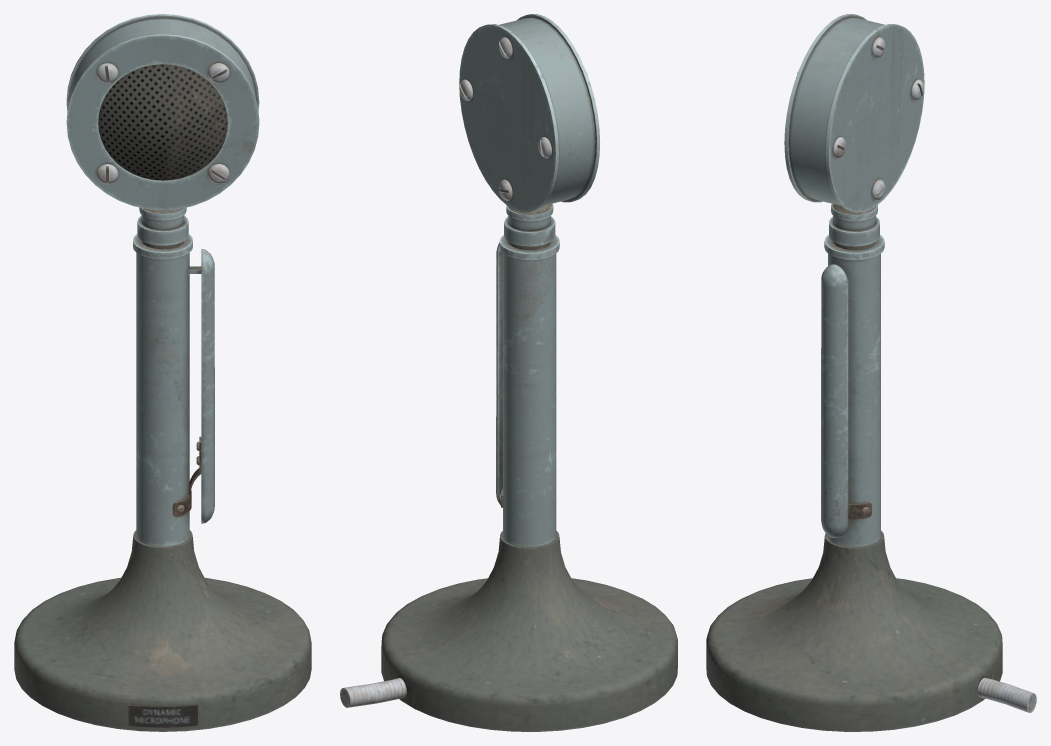
File: vintage_radio_transceiver.glb
3 views of the same model, side by side, from view 1: azimuth 30°, elevation 25°; view 2: azimuth 150°, elevation 25°; view 3: azimuth 270°, elevation 25° (orthographic).
Visible parts, largest first — view 1: vintage_radio_transceiver; view 2: vintage_radio_transceiver; view 3: vintage_radio_transceiver.
Part boxes in pixels (x1,y1,x2,y2): vintage_radio_transceiver: (14, 14, 311, 731); vintage_radio_transceiver: (340, 14, 677, 731); vintage_radio_transceiver: (706, 14, 1036, 731).
Bounding box in the file's own units: 0.0899 × 0.2177 × 0.1001.
Materials: 1 (1 with a texture image).
